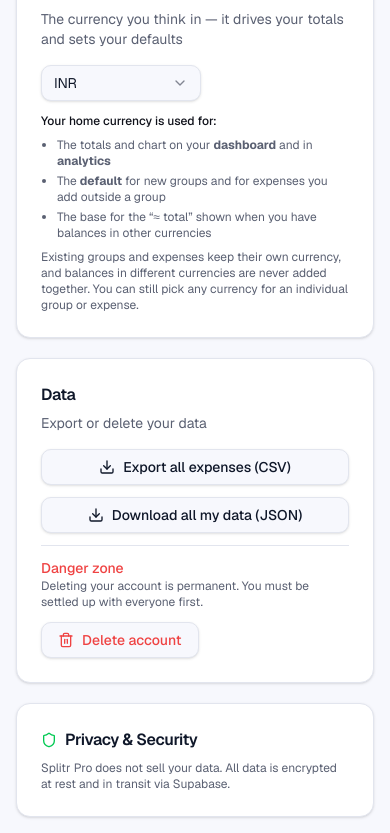
SettingsPage › Delete account opens a confirmation — it never deletes on the first click
This screenshot has width=390, height=833.
(page scrolled)
Click the button "Delete account" at (120, 640), box [41,622,198,658]
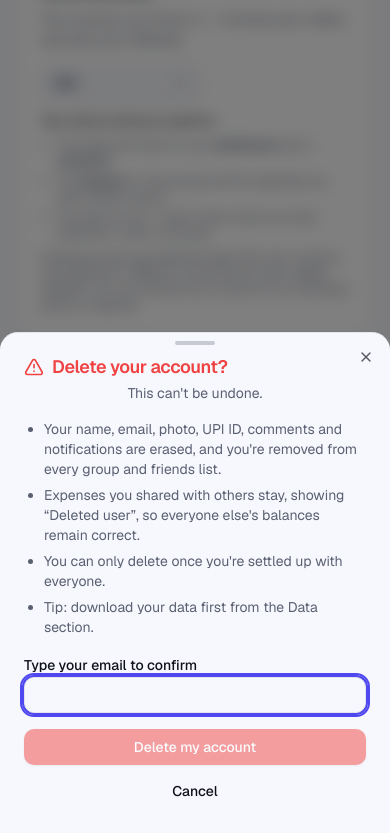
Check: the dialog shows "can't be undone", box [128,384,262,402]
